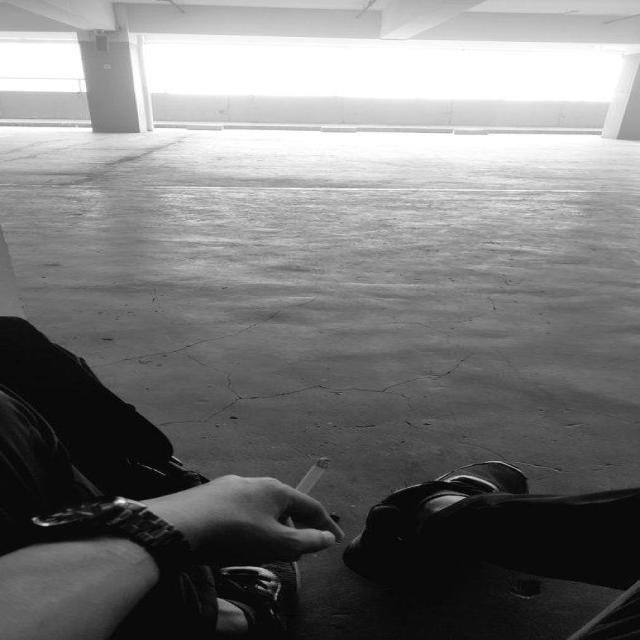rokok: (276, 452, 344, 500)
